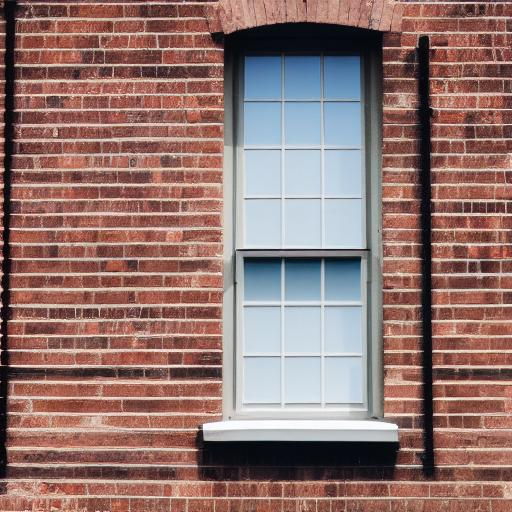Window: (198, 0, 407, 453)
